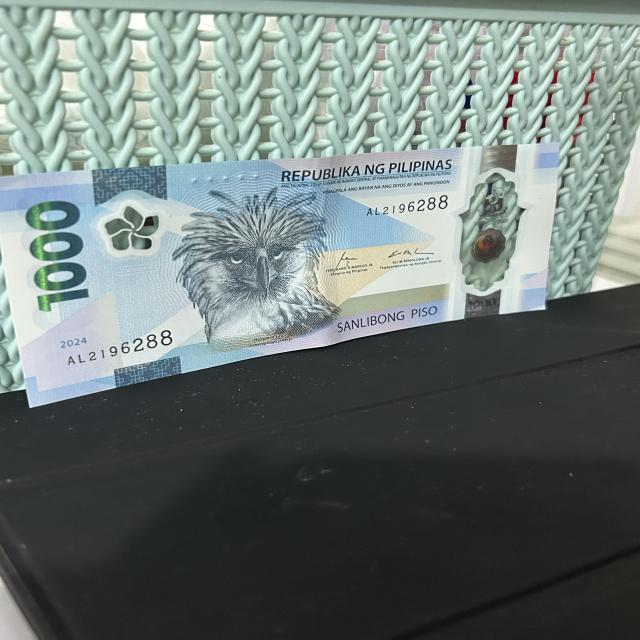clear_window: (452, 170, 534, 298)
eagle: (177, 189, 345, 336)
sampaguita: (107, 206, 172, 259)
